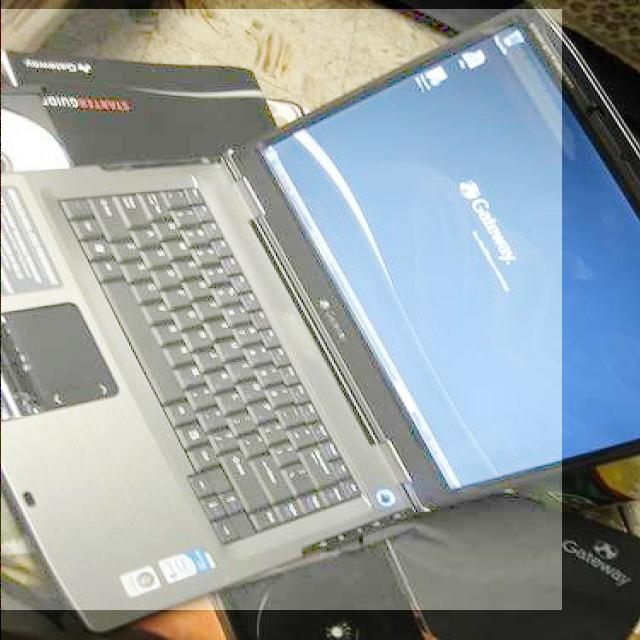-keyboard-: (0, 9, 562, 610)
